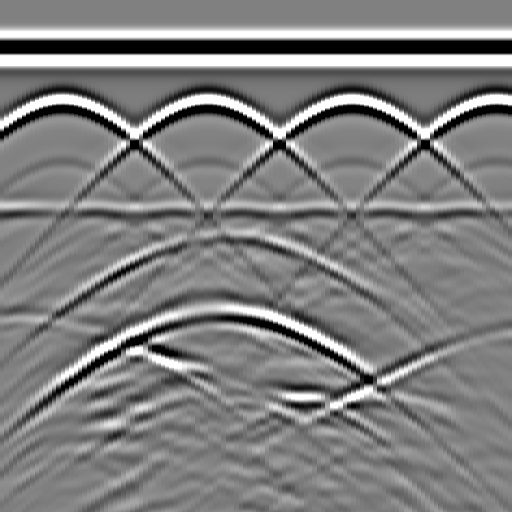grout_surface: (1, 196, 512, 226)
rebar: (41, 83, 81, 123), (185, 83, 225, 123), (329, 83, 369, 123), (473, 83, 512, 123)
rock_surface: (1, 316, 511, 396)
water_void: (190, 212, 250, 252)
